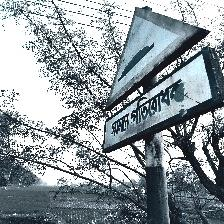Speed-breaker: (108, 8, 218, 153)
